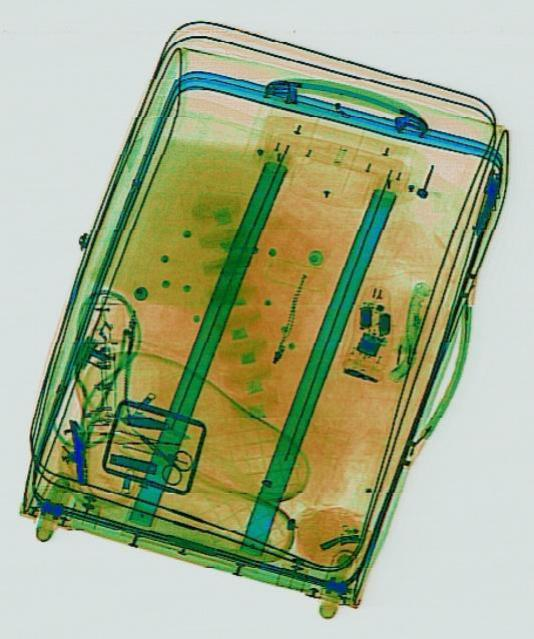Scissors: (123, 416, 196, 488)
